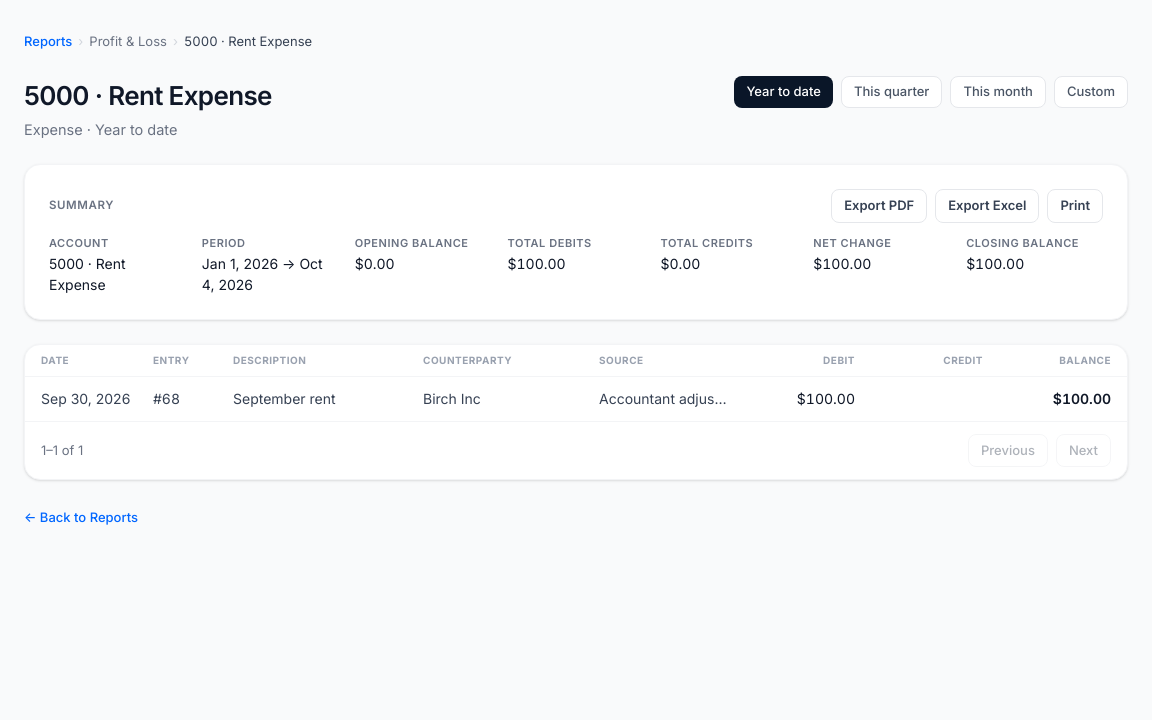
Test: owner account ledger — the drawer › shows the entry's registry status and its chain
The width and height of the screenshot is (1152, 720).
Step 1. Click the text "September rent" → (312, 398), box [217,376,407,420]
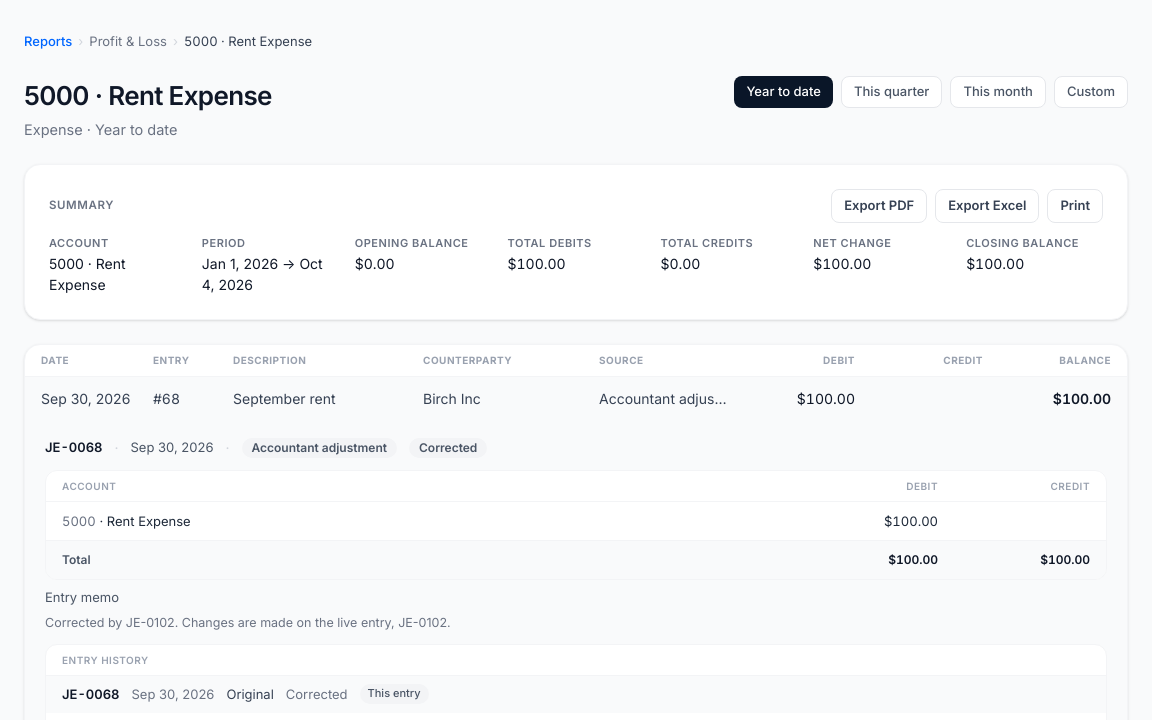
Result: the text "Corrected by JE-0102. Changes are made on the live entry, JE-0102." is shown at [45,615,451,630]
